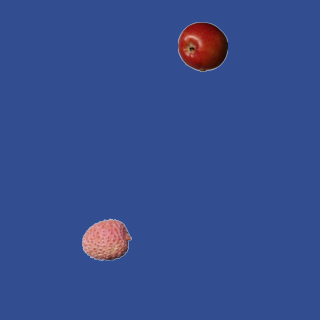Apple Braeburn: (177, 21, 227, 71)
Lychee: (81, 214, 131, 264)
